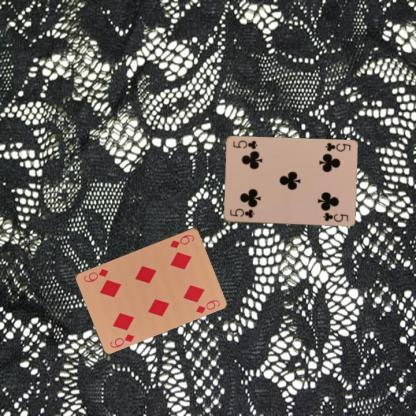5c: (227, 206, 255, 219), (323, 140, 351, 153)
6d: (107, 331, 136, 349), (168, 232, 195, 249)
